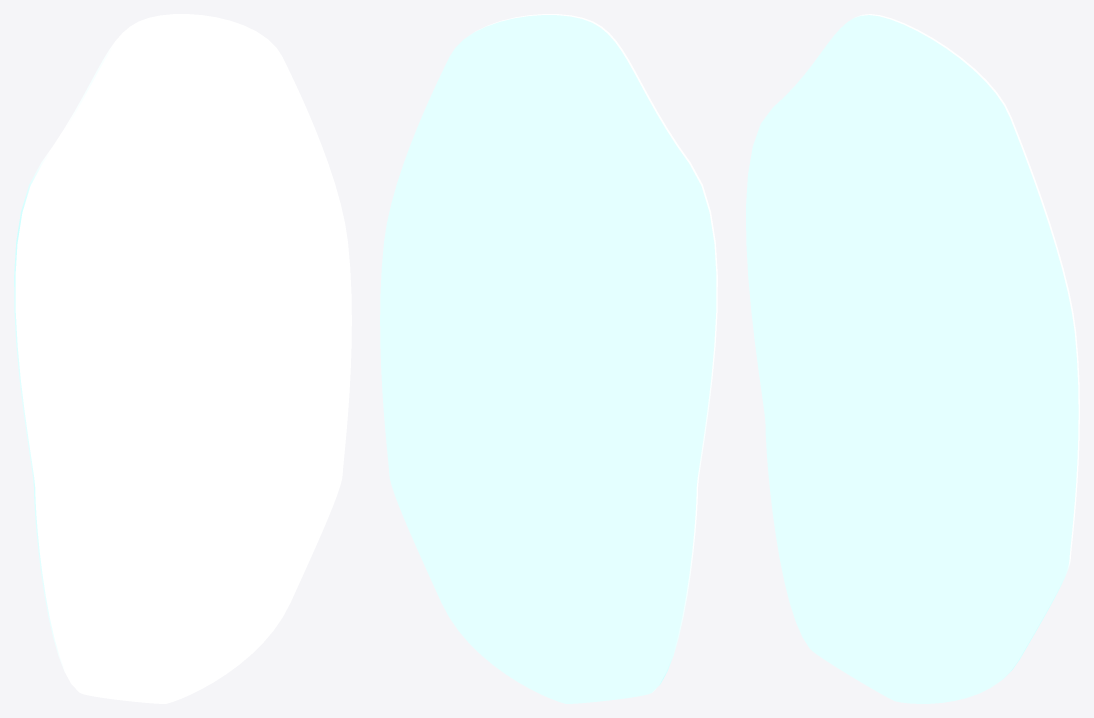
The model's file is lake1.glb.
The picture shows the model from 3 angles, left to right: view 1: azimuth 30°, elevation 25°; view 2: azimuth 150°, elevation 25°; view 3: azimuth 330°, elevation 25°; orthographic projection.
Visible parts, largest first — view 1: Ellipse; view 2: Ellipse; view 3: Ellipse.
Boxes of the visible parts, x1=… form: Ellipse: x1=14, y1=14, x2=351, y2=703; Ellipse: x1=380, y1=14, x2=717, y2=703; Ellipse: x1=746, y1=14, x2=1079, y2=703.
Size of the model in its own units: 6.88 by 13.47 by 0.05.
